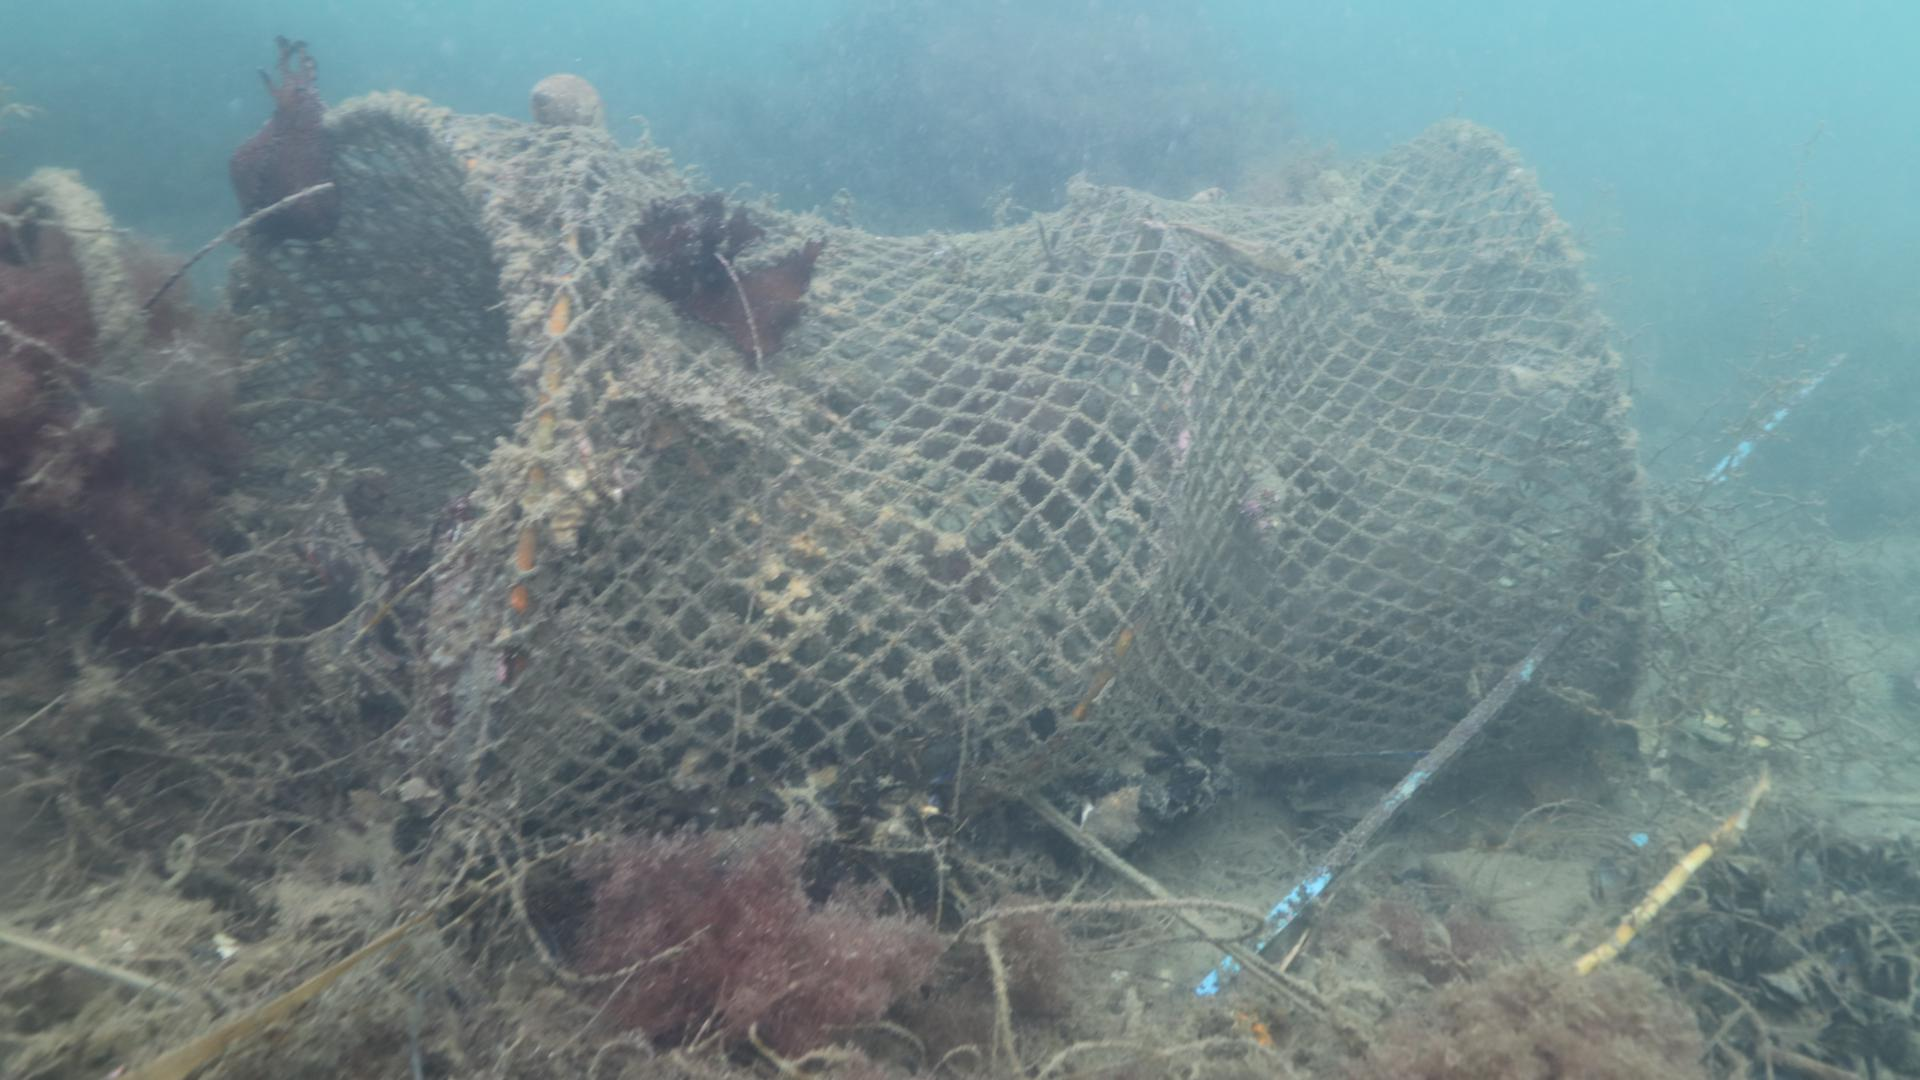rope: (7, 165, 142, 342)
spring fish trap: (220, 88, 1655, 877)
